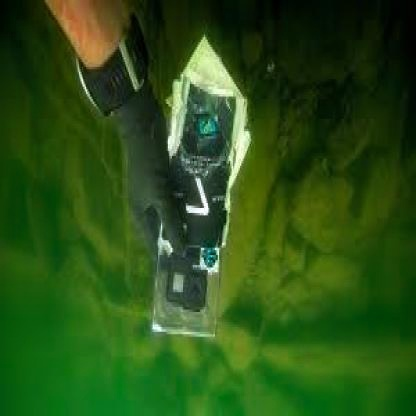electronics: (164, 250, 210, 317)
